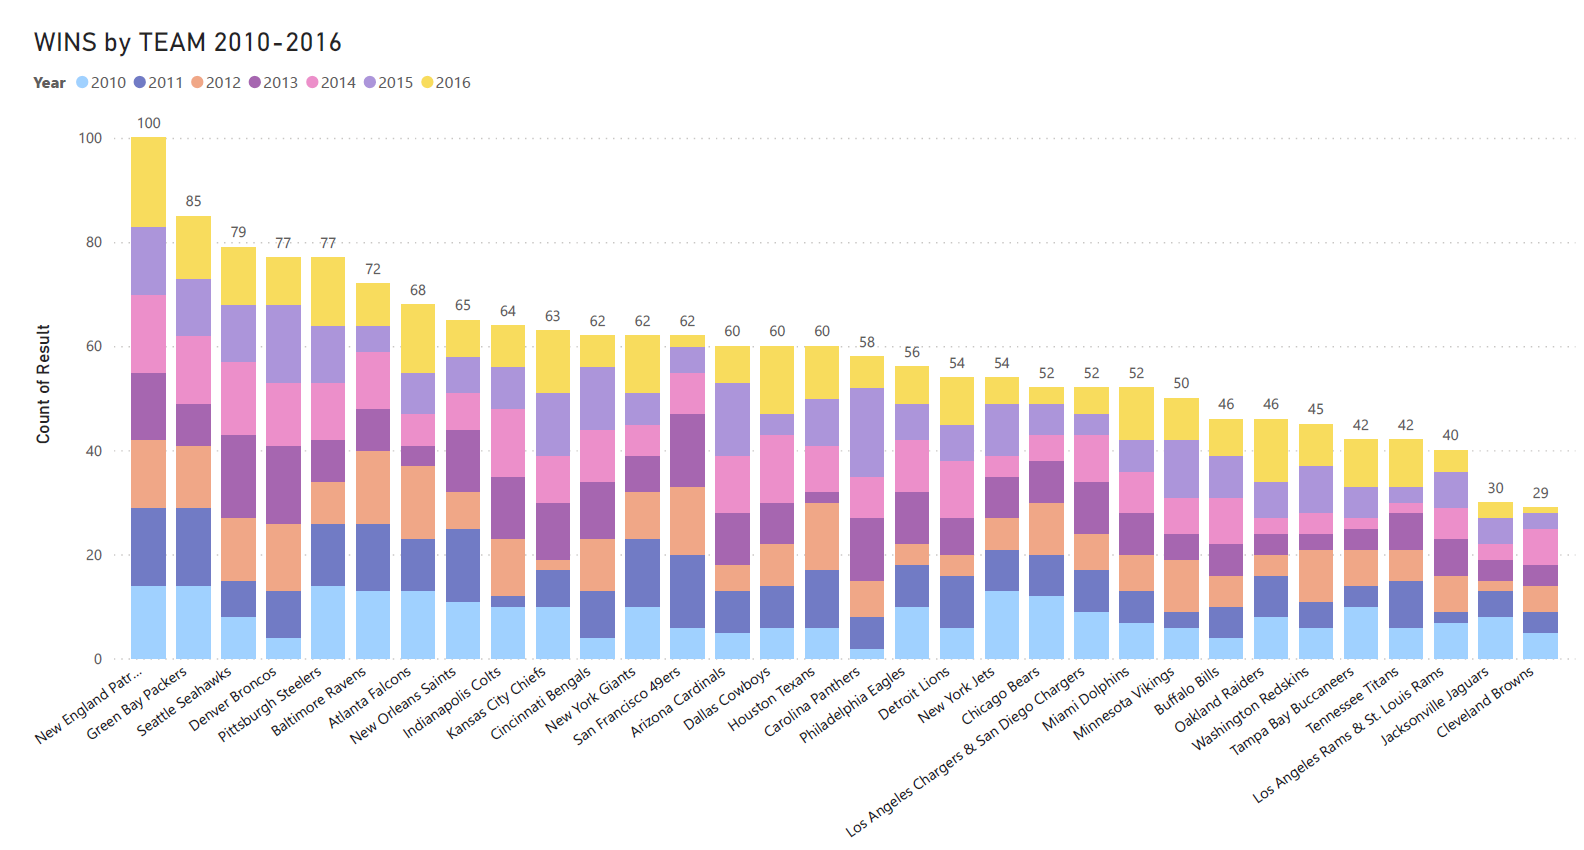

The dashboard page shown, as its layout file describes it:
{"tool":"powerbi","page":{"name":"Wins by Team","canvas":[1280,720],"ordinal":0},"visuals":[{"type":"columnChart","title":"WINS by TEAM 2010-2016","fields":{"Y":["CountNonNull(nfl_football_team_stats.Result)"],"Category":["nfl_football_team_stats.NFL Teams"],"Series":["nfl_football_team_stats.Year"]},"box":[9.1,15.1,1270.4,704.1],"z":0}]}

Visuals, with their boxes on the page's 1280x720 design canvas (x1, y1, x2, y2). These are canvas units, not pixel positions in the 1584x850 screenshot, which may show the page scaled, cropped or inside an application window:
"WINS by TEAM 2010-2016" columnChart: rect(9, 15, 1280, 719)
